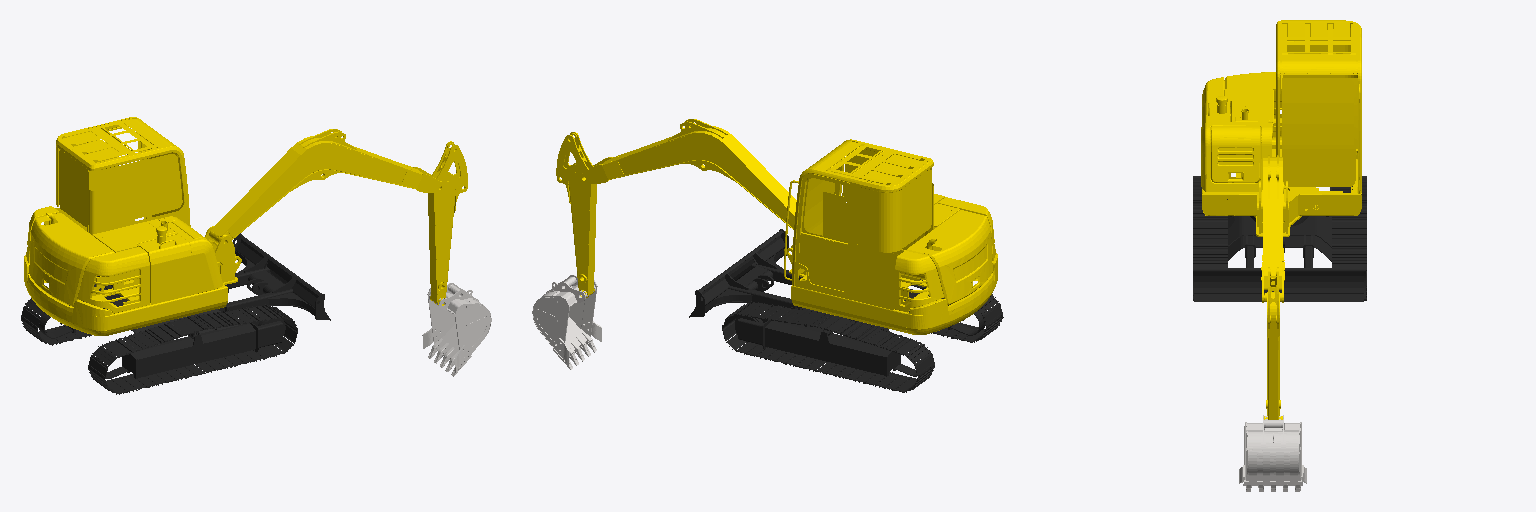
robot.urdf — excavator_description:
<robot
  name="excavator_description">
  <link
    name="base_link">
    <inertial>
      <origin
        xyz="0.89793 0.0045944 0.30758"
        rpy="0 0 0" />
      <mass
        value="267.05" />
      <inertia
        ixx="155.01"
        ixy="-0.23079"
        ixz="-7.049"
        iyy="160.78"
        iyz="0.044583"
        izz="307.7" />
    </inertial>
    <visual>
      <origin
        xyz="0 0 0"
        rpy="0 0 0" />
      <geometry>
        <mesh
          filename="package://excavator_description/meshes/base_link.STL" />
      </geometry>
      <material
        name="">
        <color
          rgba="0.2 0.2 0.2 1" />
      </material>
    </visual>
    <collision>
      <origin
        xyz="0 0 0"
        rpy="0 0 0" />
      <geometry>
        <mesh
          filename="package://excavator_description/meshes/base_link.STL" />
      </geometry>
    </collision>
  </link>

  <link
    name="link1">
    <inertial>
      <origin
        xyz="2.5943 -0.055035 0.74987"
        rpy="0 0 0" />
      <mass
        value="1896.7" />
      <inertia
        ixx="718.49"
        ixy="87.982"
        ixz="-301.34"
        iyy="4912.8"
        iyz="23.826"
        izz="4533.7" />
    </inertial>
    <visual>
      <origin
        xyz="0 0 0"
        rpy="0 0 0" />
      <geometry>
        <mesh
          filename="package://excavator_description/meshes/link1.STL" />
      </geometry>
      <material
        name="">
        <color
          rgba="0.99 0.88 0 1" />
      </material>
    </visual>
    <collision>
      <origin
        xyz="0 0 0"
        rpy="0 0 0" />
      <geometry>
        <mesh
          filename="package://excavator_description/meshes/link1.STL" />
      </geometry>
    </collision>
  </link>

  <joint
    name="joint1"
    type="revolute">
    <origin
      xyz="0 0 0.72143"
      rpy="0 0 0" />
    <parent
      link="base_link" />
    <child
      link="link1" />
    <axis
      xyz="0 0 1" />
    <limit
      lower="-3.14"
      upper="3.14"
      effort="0"
      velocity="0" />
  </joint>

  <link
    name="link2">
    <inertial>
      <origin
        xyz="1.4069 0.51583 0.00043141"
        rpy="0 0 0" />
      <mass
        value="1149.7" />
      <inertia
        ixx="62.889"
        ixy="-4.0888"
        ixz="-0.60716"
        iyy="575.38"
        iyz="0.16274"
        izz="629.63" />
    </inertial>
    <visual>
      <origin
        xyz="0 0 0"
        rpy="0 0 0" />
      <geometry>
        <mesh
          filename="package://excavator_description/meshes/link2.STL" />
      </geometry>
      <material
        name="">
        <color
          rgba="0.99 0.88 0 1"  />
      </material>
    </visual>
    <collision>
      <origin
        xyz="0 0 0"
        rpy="0 0 0" />
      <geometry>
        <mesh
          filename="package://excavator_description/meshes/link2.STL" />
      </geometry>
    </collision>
  </link>

  <joint
    name="joint2"
    type="revolute">
    <origin
      xyz="0.78 -0.07 0.548"
      rpy="1.5708 0 0" />
    <parent
      link="link1" />
    <child
      link="link2" />
    <axis
      xyz="0 0 1" />
     <limit
      lower="-0.1719"
      upper="1.1526"
      effort="0"
      velocity="0" />
  </joint>

  <link
    name="link3">
    <inertial>
      <origin
        xyz="0.64616 0.054458 1.9617E-05"
        rpy="0 0 0" />
      <mass
        value="308.3" />
      <inertia
        ixx="1.9786"
        ixy="3.3846"
        ixz="0.0039077"
        iyy="62.708"
        iyz="0.00032934"
        izz="63.701" />
    </inertial>
    <visual>
      <origin
        xyz="0 0 0"
        rpy="0 0 0" />
      <geometry>
        <mesh
          filename="package://excavator_description/meshes/link3.STL" />
      </geometry>
      <material
        name="">
        <color
          rgba="0.99 0.88 0 1" />
      </material>
    </visual>
    <collision>
      <origin
        xyz="0 0 0"
        rpy="0 0 0" />
      <geometry>
        <mesh
          filename="package://excavator_description/meshes/link3.STL" />
      </geometry>
    </collision>
  </link>

  <joint
    name="joint3"
    type="revolute">
    <origin
      xyz="3 0 -0.0005"
      rpy="0 0 0" />
    <parent
      link="link2" />
    <child
      link="link3" />
    <axis
      xyz="0 0 1" />
   <limit
      lower="-2.5265"
      upper="-0.5544"
      effort="0"
      velocity="0" />
  </joint>

  <link
    name="link4">
    <inertial>
      <origin
        xyz="0.22788 0.1819 0.02514"
        rpy="0 0 0" />
      <mass
        value="136.04" />
      <inertia
        ixx="8.3836"
        ixy="-0.63526"
        ixz="-0.39851"
        iyy="17.276"
        iyz="0.19387"
        izz="14.026" />
    </inertial>
    <visual>
      <origin
        xyz="0 0 0"
        rpy="0 0 0" />
      <geometry>
        <mesh
          filename="package://excavator_description/meshes/link4.STL" />
      </geometry>
      <material
        name="">
        <color
          rgba="0.88 0.87 0.86 2.55" />
      </material>
    </visual>
    <collision>
      <origin
        xyz="0 0 0"
        rpy="0 0 0" />
      <geometry>
        <mesh
          filename="package://excavator_description/meshes/link4.STL" />
      </geometry>
    </collision>
  </link>

  <joint
    name="joint4"
    type="revolute">
    <origin
      xyz="1.55 0 -0.0005"
      rpy="0 0 0" />
    <parent
      link="link3" />
    <child
      link="link4" />
    <axis
      xyz="0 0 1" />
     <limit
      lower="-2.4107"
      upper="0.578"
      effort="0"
      velocity="0" />
  </joint>

  <link
    name="tip_link" />

  <joint
    name="tip_joint"
    type="fixed">
    <origin
      xyz="0.89258 0 0"
      rpy="0 0 0" />
    <parent
      link="link4" />
    <child
      link="tip_link" />
    <axis
      xyz="0 0 0" />
  </joint>
</robot>

--- Render facts (derived) ---
The picture shows the robot from 3 angles, left to right: view 1: azimuth 30°, elevation 25°; view 2: azimuth 150°, elevation 25°; view 3: azimuth 270°, elevation 25°; orthographic projection.
Robot: excavator_description — 6 links, 5 joints (4 revolute, 1 fixed); root link base_link; default pose: all joints at 0 but 1 set to mid-range because 0 is outside their limits (joint3 = -1.54).
Links seen in each view (by area): view 1: link1, base_link, link2, link4, link3; view 2: link1, base_link, link2, link4, link3; view 3: link1, base_link, link4, link2, link3.
Link boxes in pixels (box(x1,y1,x2,y2)): link1: box(24, 117, 241, 335); base_link: box(21, 233, 330, 394); link2: box(209, 129, 444, 243); link4: box(422, 283, 491, 376); link3: box(428, 141, 467, 305); link1: box(784, 139, 997, 334); base_link: box(689, 229, 1003, 392); link2: box(579, 119, 796, 229); link4: box(532, 275, 601, 369); link3: box(556, 132, 596, 297); link1: box(1201, 20, 1361, 236); base_link: box(1193, 176, 1366, 301); link4: box(1239, 415, 1306, 491); link2: box(1261, 155, 1284, 302); link3: box(1264, 267, 1282, 419).
Bounding box of the posed robot: 5.99 × 2.02 × 3.78 m (x, y, z).
5 mesh visuals loaded from 5 distinct referenced files (5 binary STL).
